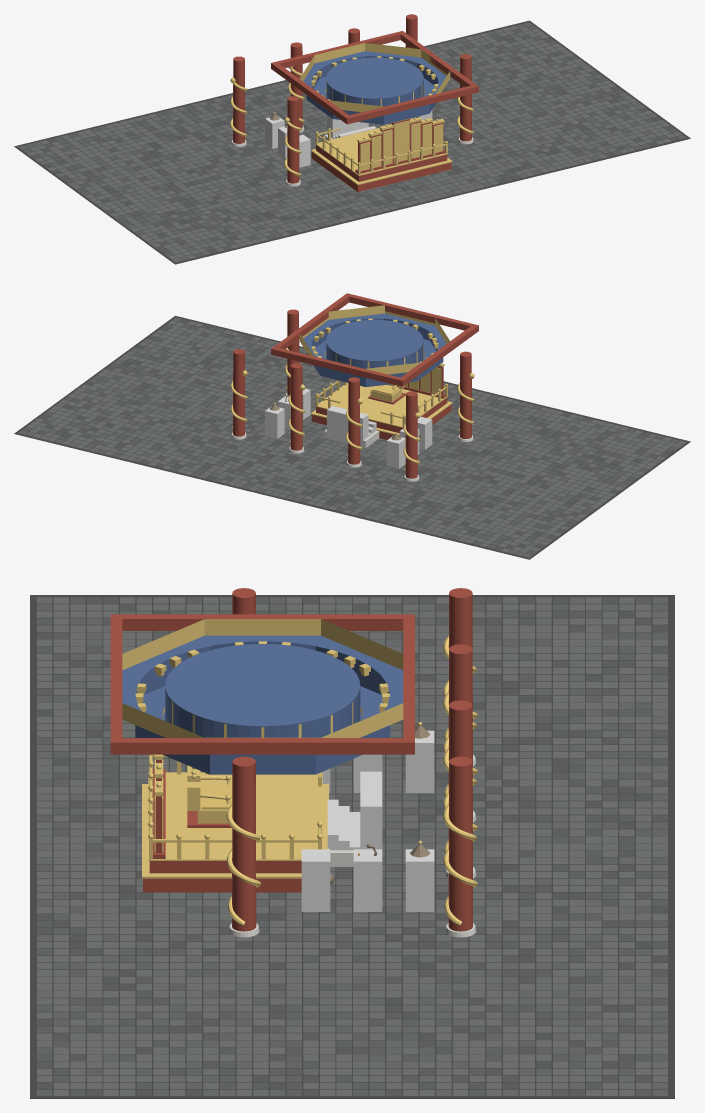
Rendered from qianqing.glb.
3 renders of one model, top to bottom at view 1: azimuth 30°, elevation 25°; view 2: azimuth 150°, elevation 25°; view 3: azimuth 270°, elevation 25°, orthographic. The views are drawn at different scales.
Visible parts, largest first — view 1: floor_tiles, floor_base, caisson_circ_cap, caisson_oct_wall, caisson_oct_wall2, caisson_sq_x.001, plat_top, plat_lower, col_-7.7_+4.2, col_-7.7_-4.2, caisson_oct_shelf, plat_upper (+10 smaller); view 2: floor_tiles, floor_base, caisson_circ_cap, plat_top, caisson_oct_wall, caisson_oct_wall2, caisson_sq_x, caisson_sq_x.001, col_+2.6_-4.2, col_-7.7_-4.2, col_-2.6_-4.2, col_+7.7_-4.2 (+11 smaller); view 3: floor_tiles, floor_base, caisson_circ_cap, plat_top, caisson_oct_wall, caisson_oct_wall2, caisson_sq_z.001, col_+7.7_-4.2, col_+7.7_+4.2, caisson_oct_shelf, caisson_circ_wall, caisson_sq_z (+16 smaller).
Part boxes in pixels (box(x1,y1,x2,y2)): floor_tiles: box(18, 22, 686, 262); floor_base: box(14, 20, 690, 264); caisson_circ_cap: box(326, 57, 423, 98); caisson_oct_wall: box(300, 43, 450, 112); caisson_oct_wall2: box(306, 56, 443, 124); caisson_sq_x.001: box(344, 84, 478, 123); plat_top: box(315, 128, 448, 175); plat_lower: box(311, 152, 451, 191); col_-7.7_+4.2: box(287, 96, 299, 183); col_-7.7_-4.2: box(233, 56, 244, 143); caisson_oct_shelf: box(303, 51, 446, 94); plat_upper: box(316, 145, 447, 181); floor_tiles: box(18, 317, 686, 557); floor_base: box(14, 315, 690, 559); caisson_circ_cap: box(326, 319, 423, 361); plat_top: box(315, 382, 448, 427); caisson_oct_wall: box(299, 305, 449, 374); caisson_oct_wall2: box(306, 318, 443, 386); caisson_sq_x: box(271, 347, 405, 386); caisson_sq_x.001: box(344, 293, 477, 330); col_+2.6_-4.2: box(290, 363, 302, 450); col_-7.7_-4.2: box(405, 391, 417, 478); col_-2.6_-4.2: box(348, 377, 360, 464); col_+7.7_-4.2: box(233, 349, 244, 436); floor_tiles: box(37, 597, 667, 1095); floor_base: box(30, 595, 674, 1098); caisson_circ_cap: box(165, 644, 360, 727); plat_top: box(148, 772, 322, 860); caisson_oct_wall: box(122, 619, 403, 737); caisson_oct_wall2: box(135, 641, 390, 774); caisson_sq_z.001: box(111, 738, 413, 754); col_+7.7_-4.2: box(448, 756, 472, 931); col_+7.7_+4.2: box(232, 756, 256, 931); caisson_oct_shelf: box(122, 635, 403, 710); caisson_circ_wall: box(165, 687, 360, 737); caisson_sq_z: box(112, 614, 414, 630).
Bounding box in the file's own units: 45.8 × 7.24 × 24.8.
